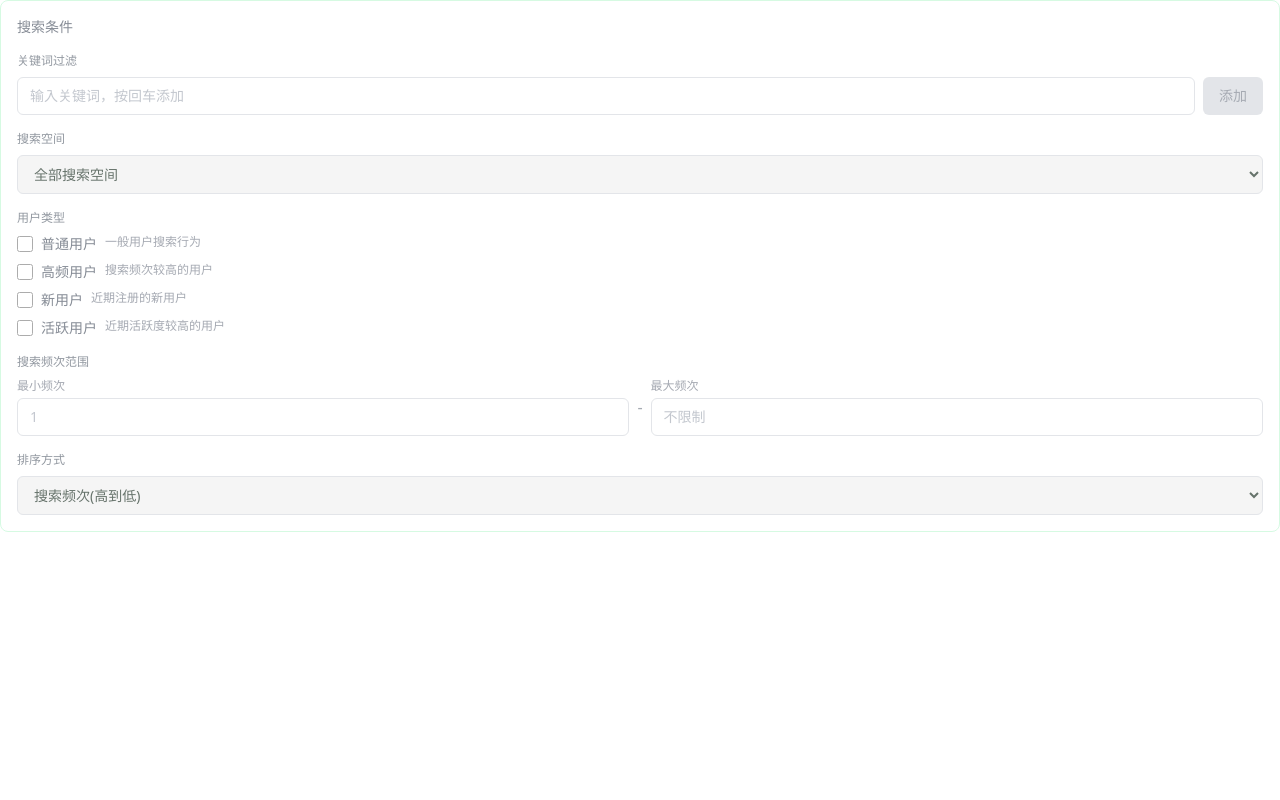
Test: SearchConditionFilter › 关键词管理功能 › 应该能够删除关键词
Type "待删除关键词" into the field with id "keywords" at (606, 96), box [17,77,1195,115]
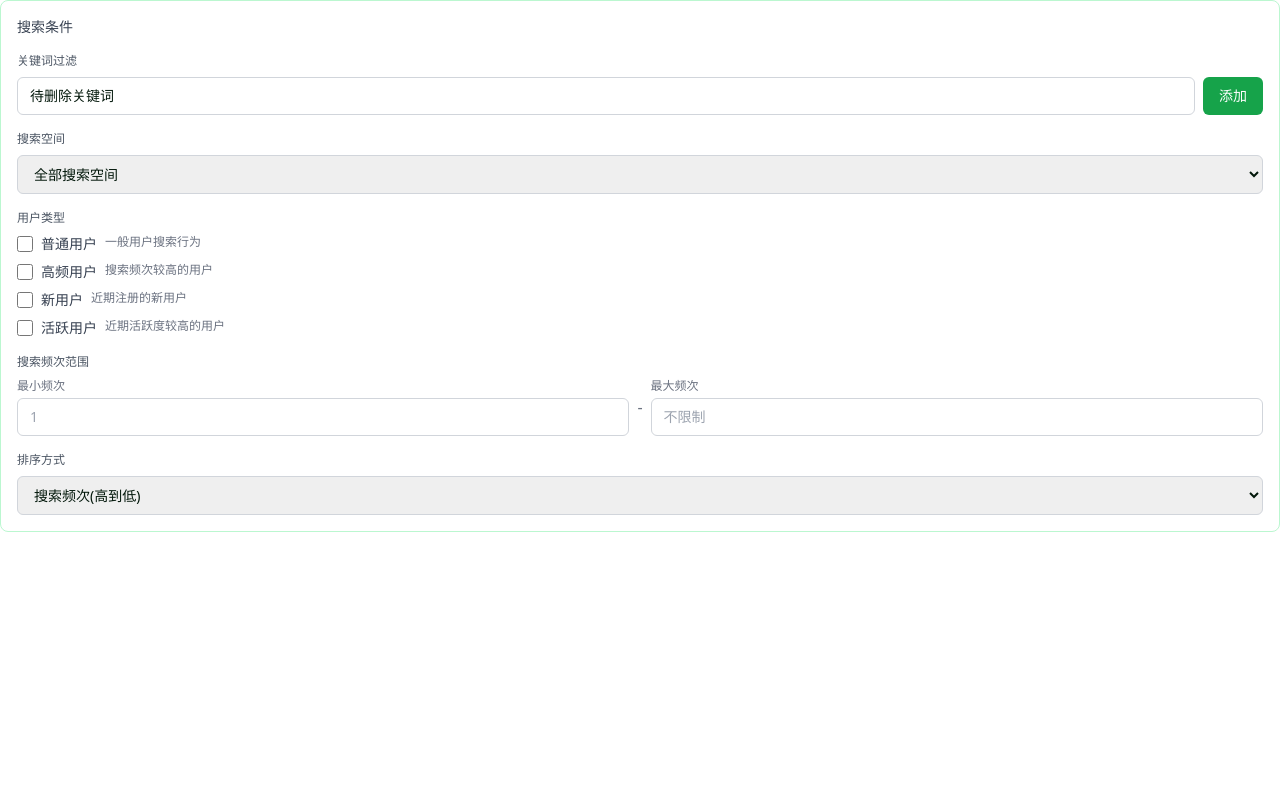
Click the button with class "add-keyword-button" at (1233, 96), box [1203,77,1263,115]
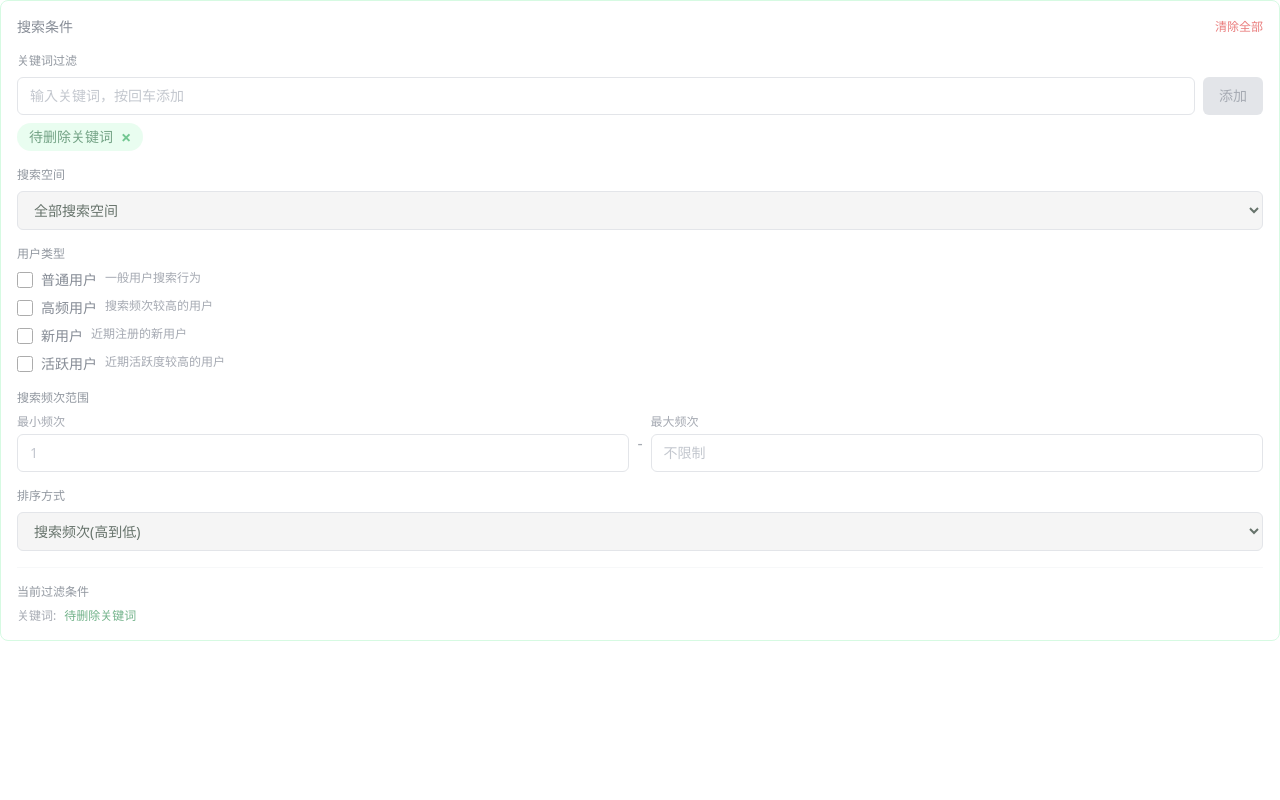
Check: the number of elements with class "keyword-tag" is 1, box [17,123,143,151]
Click the button with class "keyword-remove" at (126, 137), box [121,128,131,146]
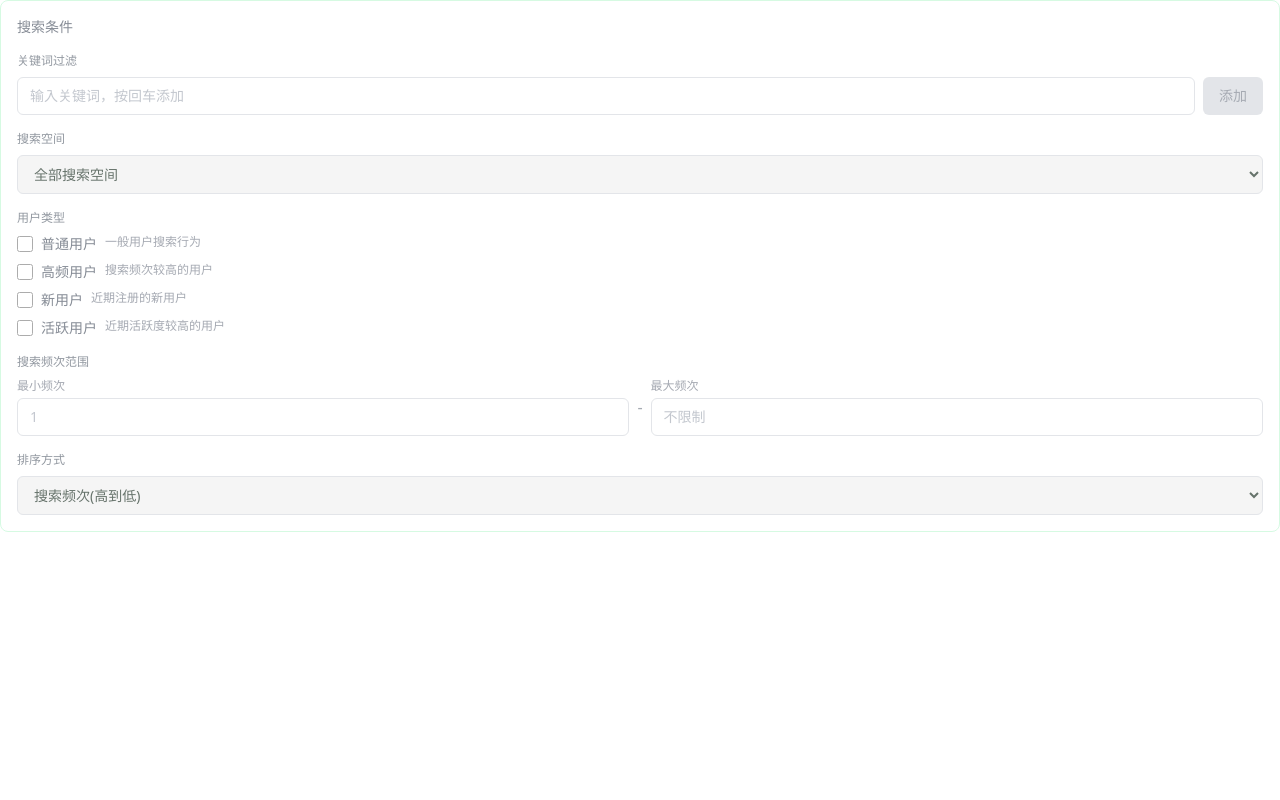
Check: no elements with class "keyword-tag" are shown
